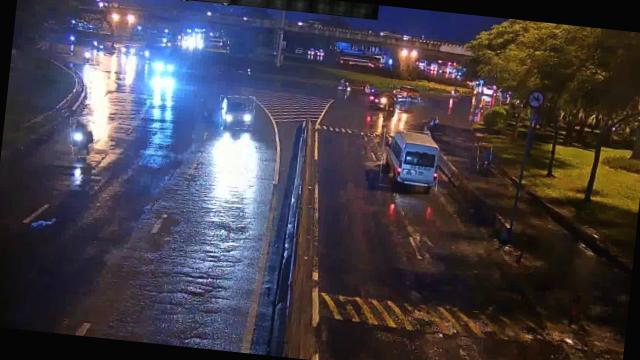Bike: (67, 116, 96, 158), (476, 144, 494, 172)
Bus: (378, 127, 442, 192)
Car: (218, 94, 255, 130)
